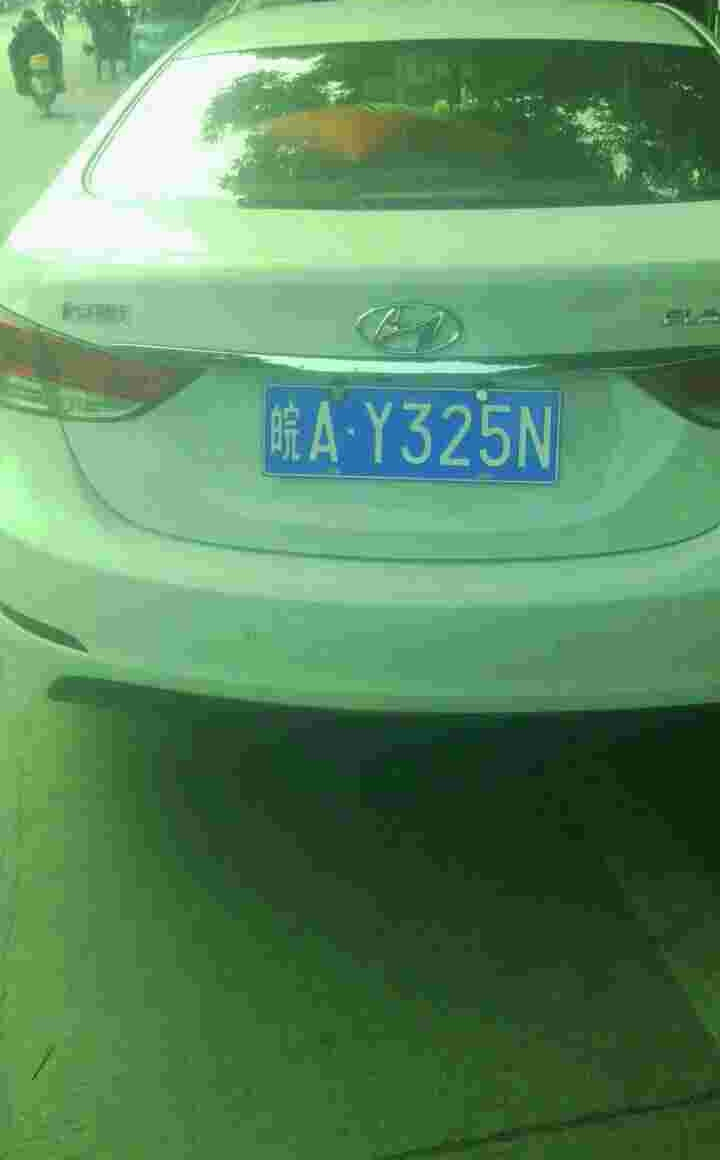license_plate: (269, 399, 552, 480)
